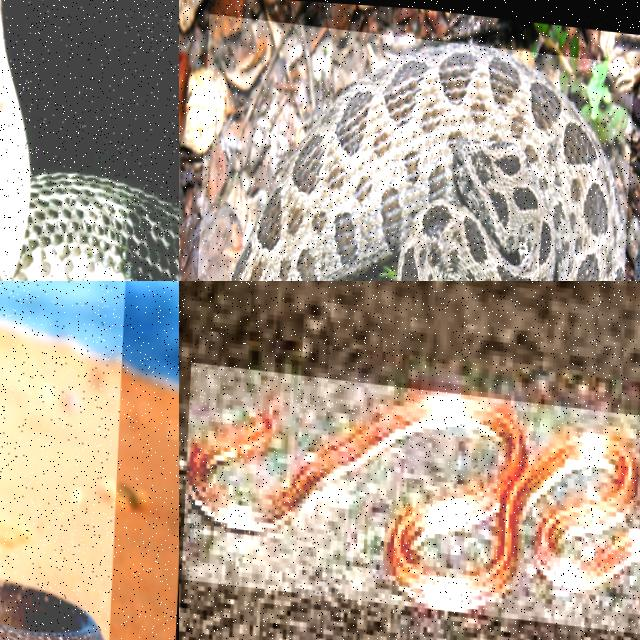Calliophis intestinalis: (187, 392, 639, 612)
Daboia siamensis: (231, 44, 625, 280)
Naja siamensis: (0, 5, 178, 280)
Ophiophagus hannah: (0, 586, 100, 639)
snake: (187, 392, 639, 612), (231, 44, 625, 280), (0, 5, 178, 280), (0, 586, 100, 639)
